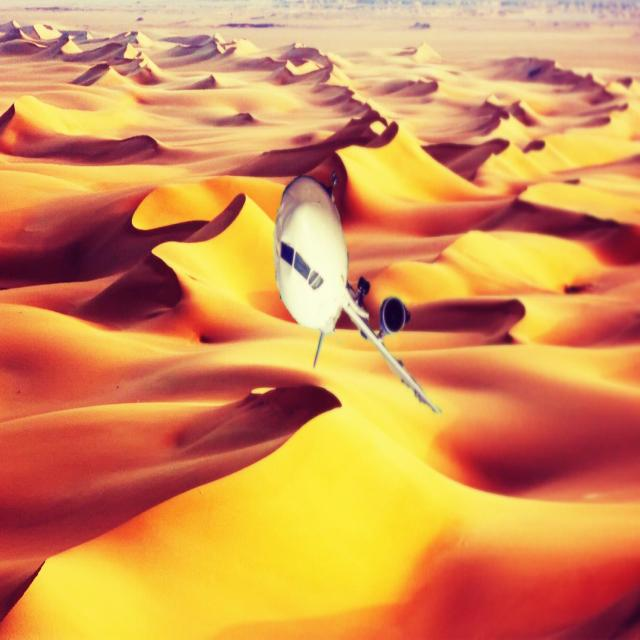airplane: (273, 168, 441, 414)
